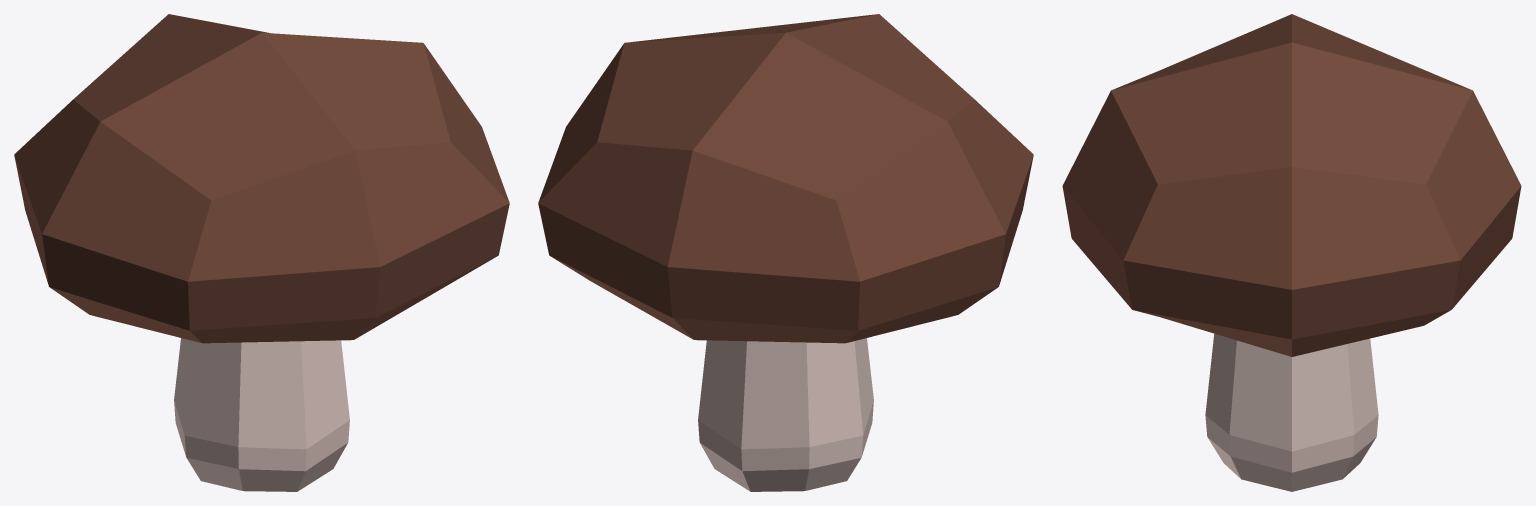
File: MUSH_ROUNDED_BROWN.fbx
3 views of the same model, side by side, from view 1: azimuth 30°, elevation 25°; view 2: azimuth 150°, elevation 25°; view 3: azimuth 270°, elevation 25° (orthographic). The views are drawn at different scales.
Parts seen in each view (by area): view 1: pCube15, pCube16; view 2: pCube15, pCube16; view 3: pCube15, pCube16.
Boxes of the visible parts, x1=… form: pCube15: x1=14, y1=14, x2=509, y2=343; pCube16: x1=174, y1=338, x2=349, y2=491; pCube15: x1=538, y1=14, x2=1033, y2=343; pCube16: x1=698, y1=338, x2=873, y2=491; pCube15: x1=1062, y1=14, x2=1521, y2=356; pCube16: x1=1205, y1=333, x2=1378, y2=491.
Size of the model in its own units: 14.03 by 13.44 by 13.06.
